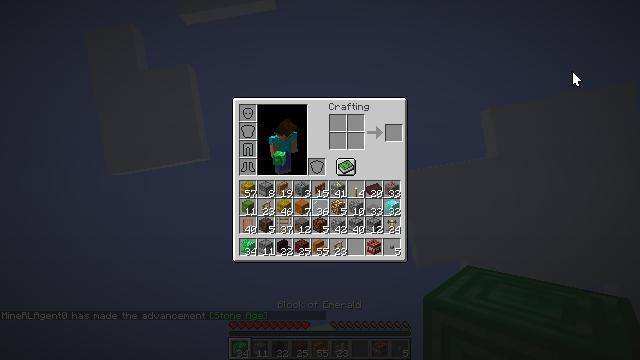cursor: (572, 71, 582, 87)
